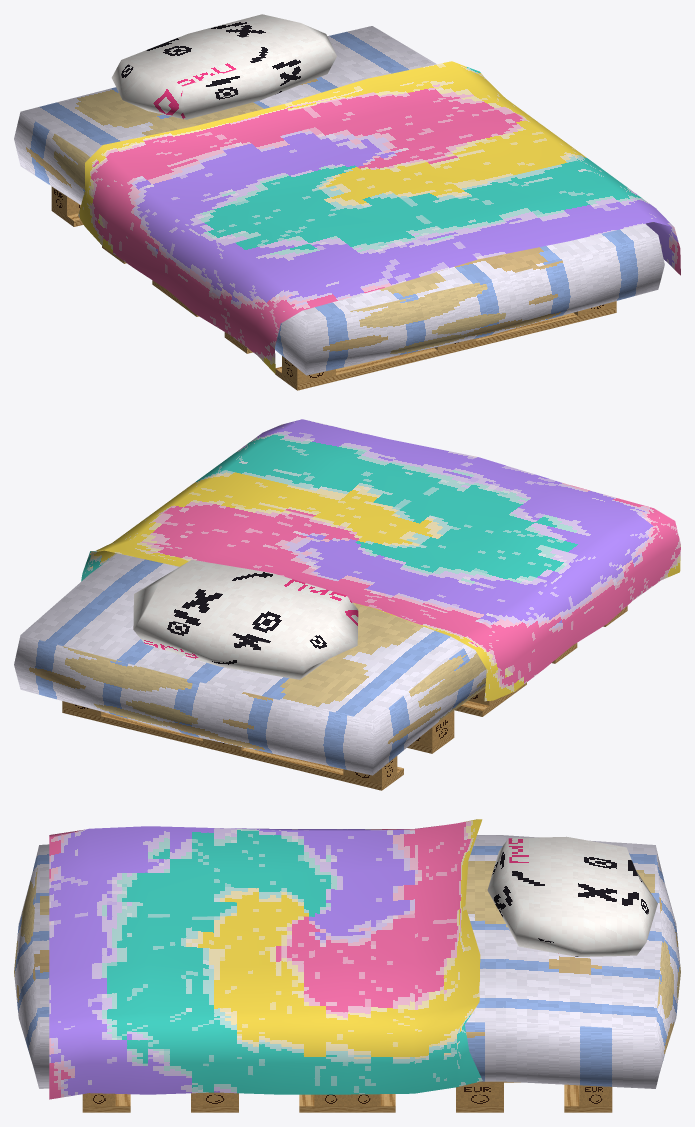
Rendered from s_bed.glb.
3 renders of one model, top to bottom at view 1: azimuth 30°, elevation 25°; view 2: azimuth 150°, elevation 25°; view 3: azimuth 270°, elevation 25°, orthographic. The views are drawn at different scales.
Parts seen in each view (by area): view 1: s_bed_mesh; view 2: s_bed_mesh; view 3: s_bed_mesh.
Part boxes in pixels (x1,y1,x2,y2): s_bed_mesh: (14, 14, 680, 390); s_bed_mesh: (14, 419, 680, 790); s_bed_mesh: (14, 819, 680, 1112).
Size of what is drawn, in the model's own units: 1.55 by 0.5184 by 2.01.
Materials: 3 (3 with a texture image).
